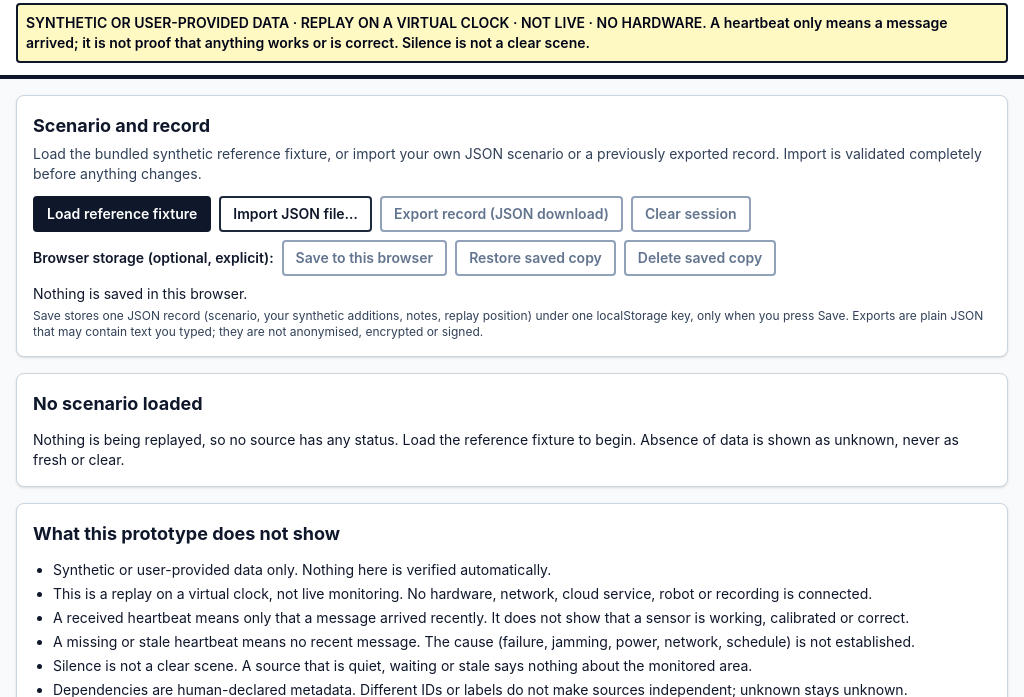
Test case: adapter panel drives the real state machine › the rendered panel states plainly that no physical device is involved
Click the button with test id "btn-load-ref". click: (122, 214)
box: [33,196,211,232]
(page scrolled)
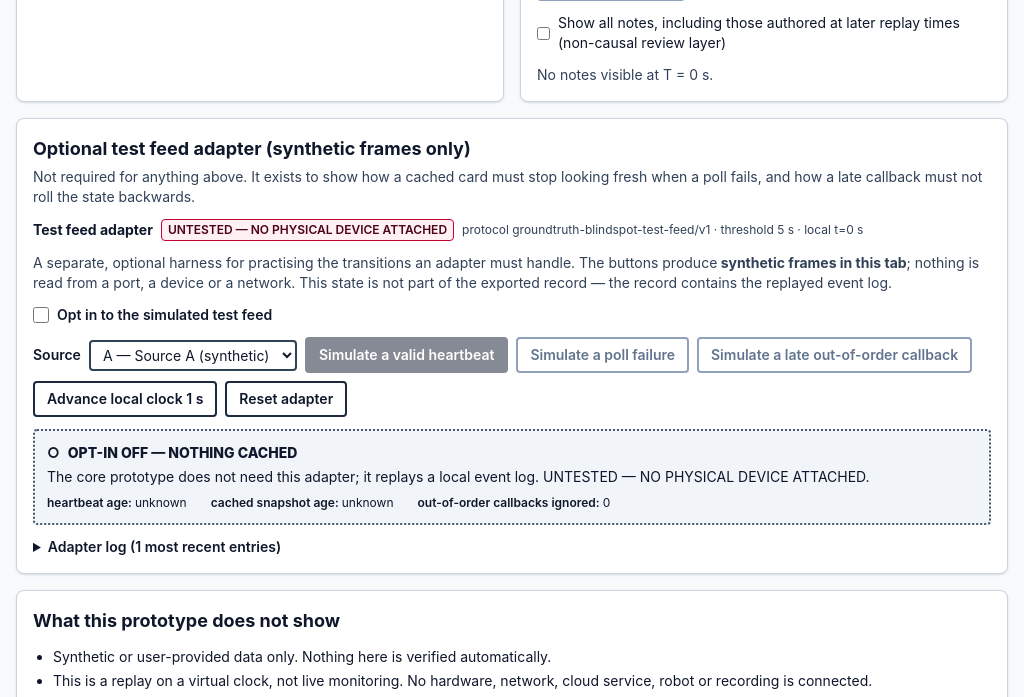
Check: the element with test id "adapter-status-line" shows "UNTESTED", box [168,222,447,237]
Check: the label with test id "adapter-optin-label" shows "simulated test feed", box [57,306,272,323]
